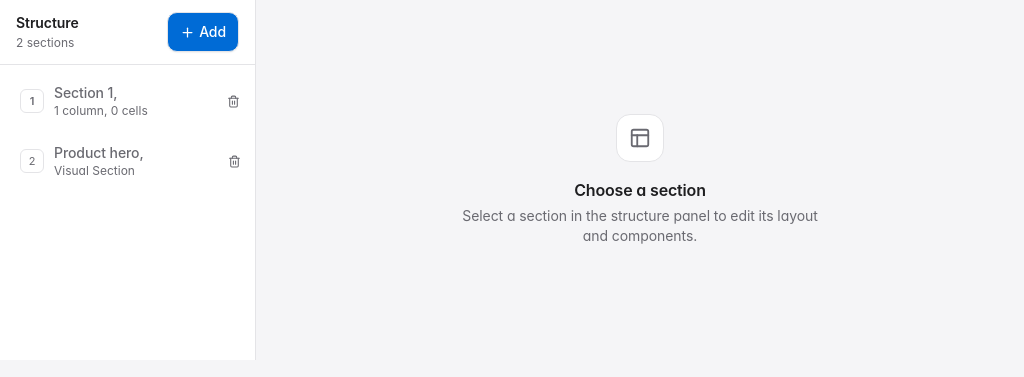
it: offers visual sections from Structure Add and displays them beside grids
The image size is (1024, 377).
Later steps or results of the test are not shown.
Check: the button "2 Product hero, visual section" is shown, box [8,133,222,189]
Check: the text "2 sections" is shown, box [16,35,79,51]
Click the button with aria-label "Add section" at (203, 32), box [167,12,239,52]
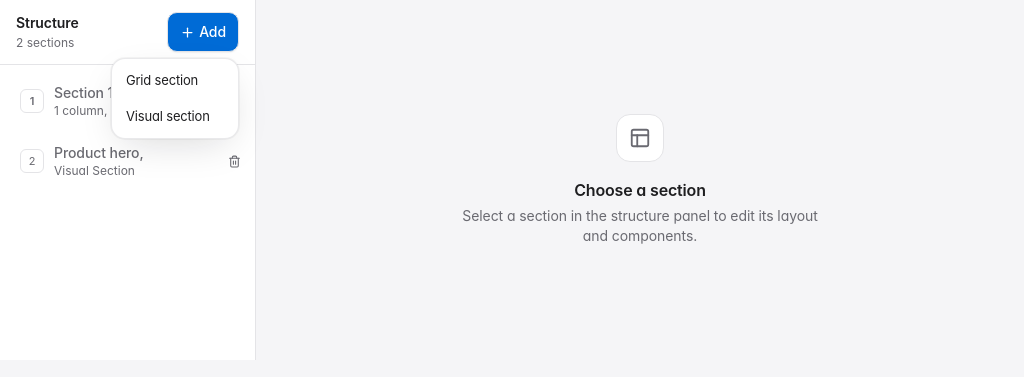
Click the menu item "Visual section" at (175, 116), box [116,98,234,134]
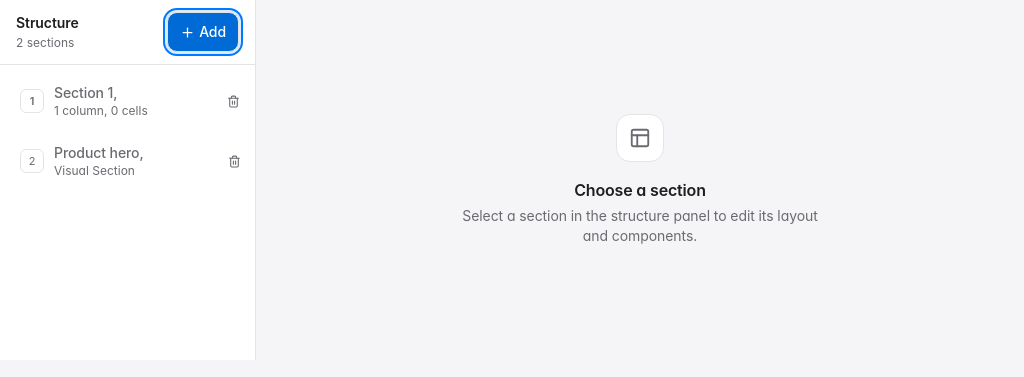
Click the button "2 Product hero, visual section" at (115, 161), box [8,133,222,189]
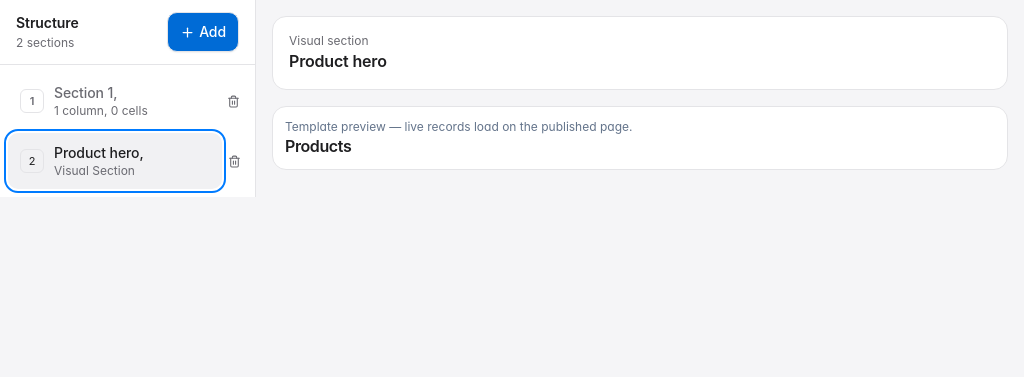
Check: the heading "Product hero" is shown, box [289,49,387,73]
